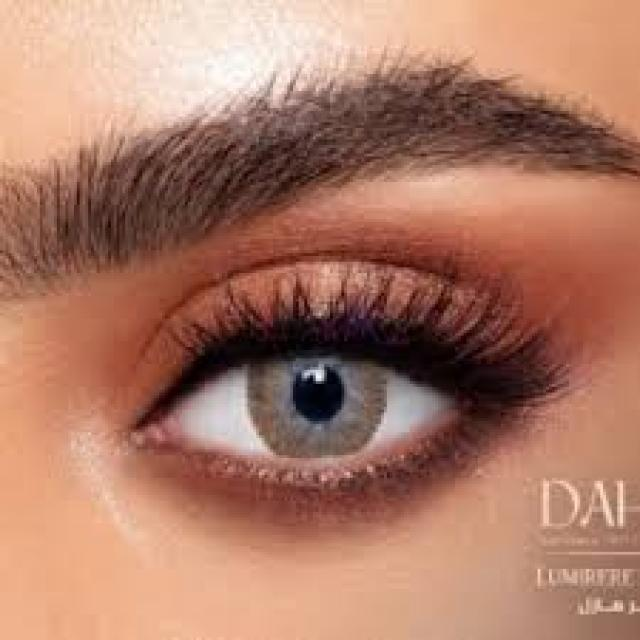Normal: (121, 195, 564, 578)
